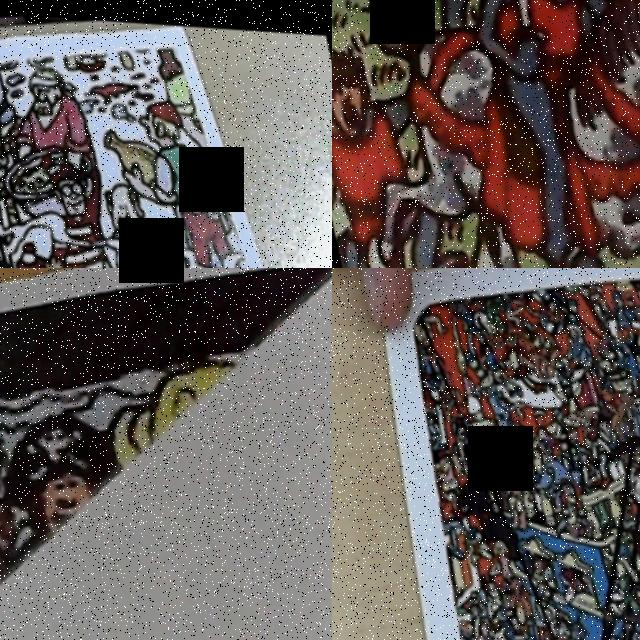waldo: (36, 145, 94, 228), (0, 436, 22, 552), (492, 582, 511, 609)
